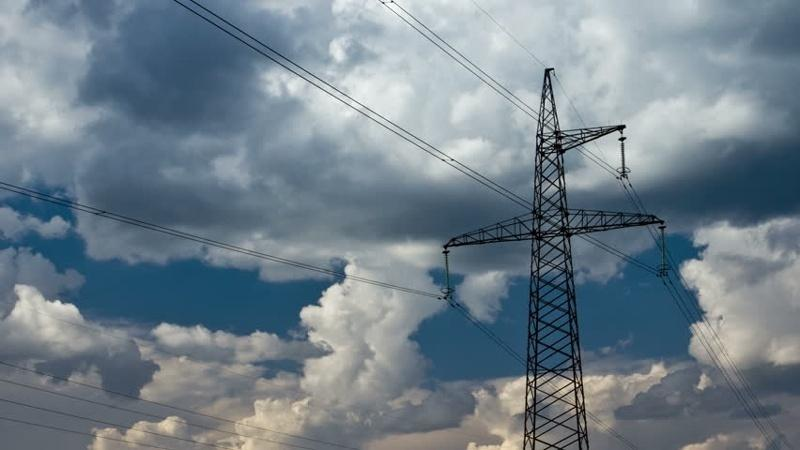power_tower: (467, 57, 649, 437)
